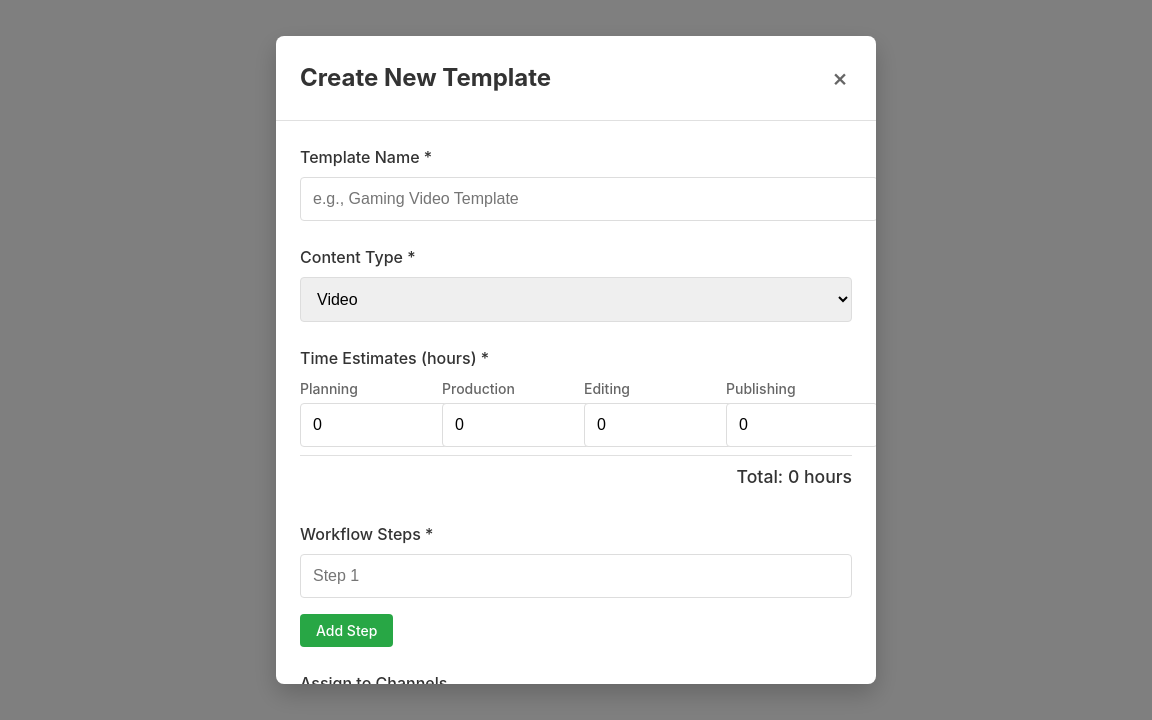
Test: TemplateEditor › adds and removes workflow steps
Expected: the number of fields with placeholder "Step 1" is 1, [300,554,852,598]
# Add a step
Click the button "Add Step" at (347,631), box [300,614,393,647]
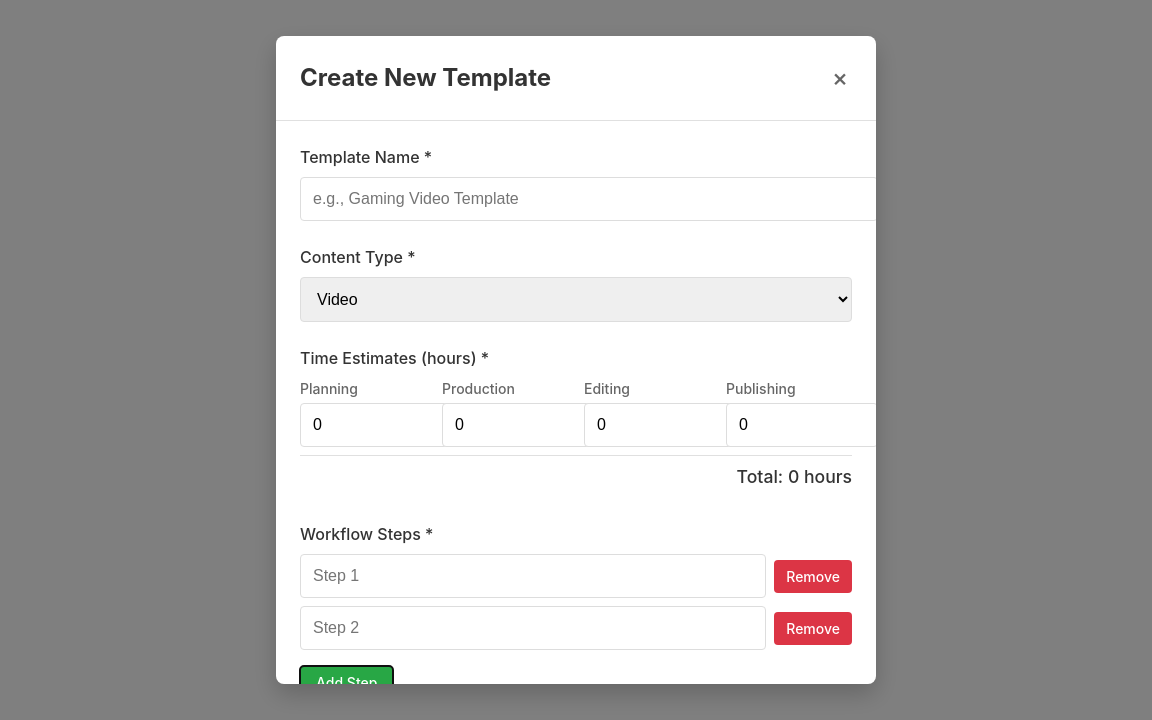
Now the number of fields with placeholder "Step 1" is 2
# Fill in steps
Type "First step" into the field with placeholder "Step 1" at (533,576), box [300,554,766,598]
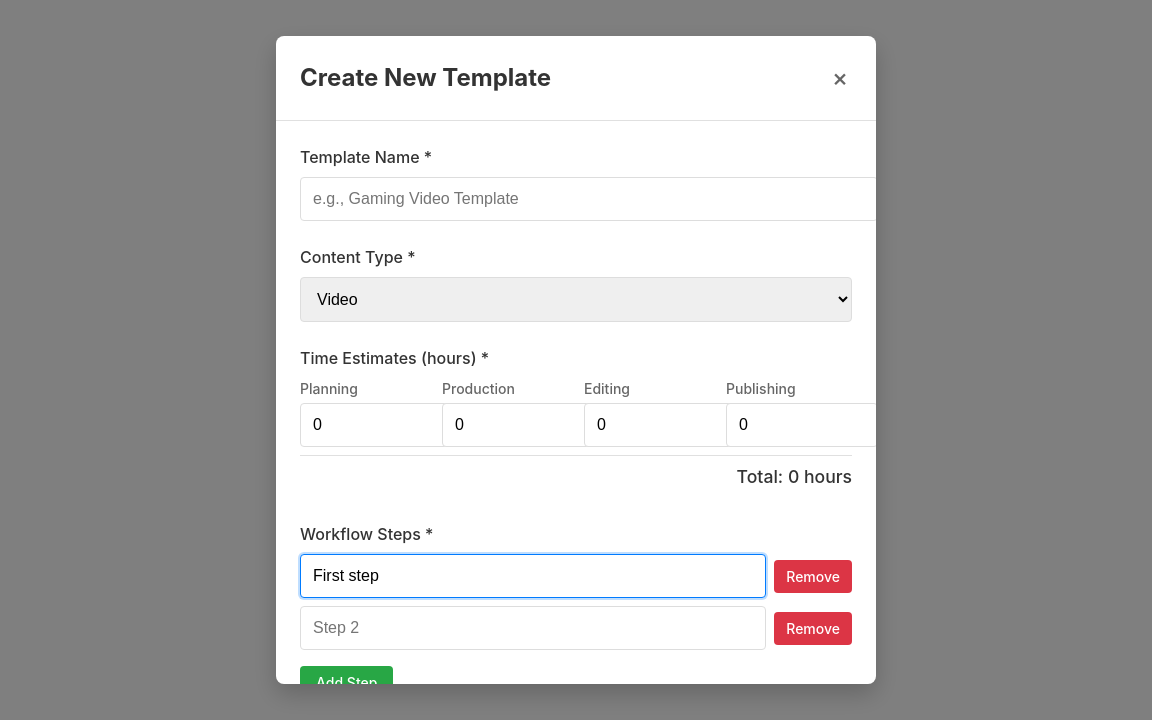
Type "Second step" into the field with placeholder "Step 2" at (533,628), box [300,606,766,650]
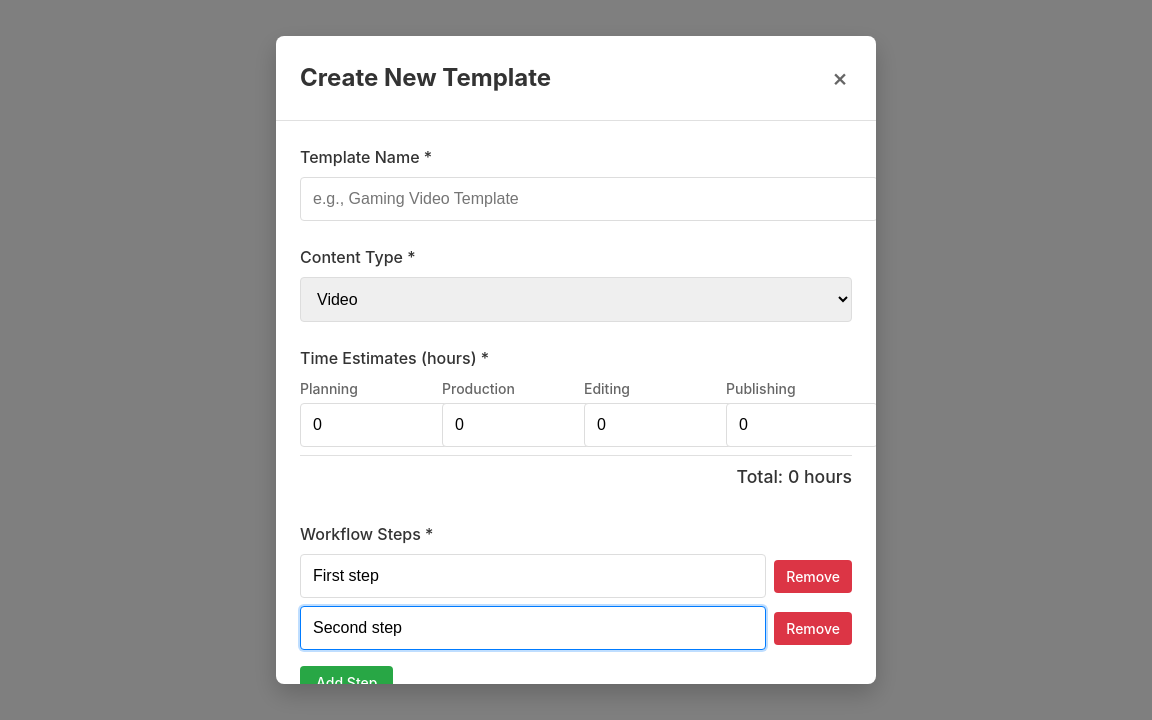
# Remove a step
Click the 1st button "Remove" at (813,576), box [774,560,852,593]
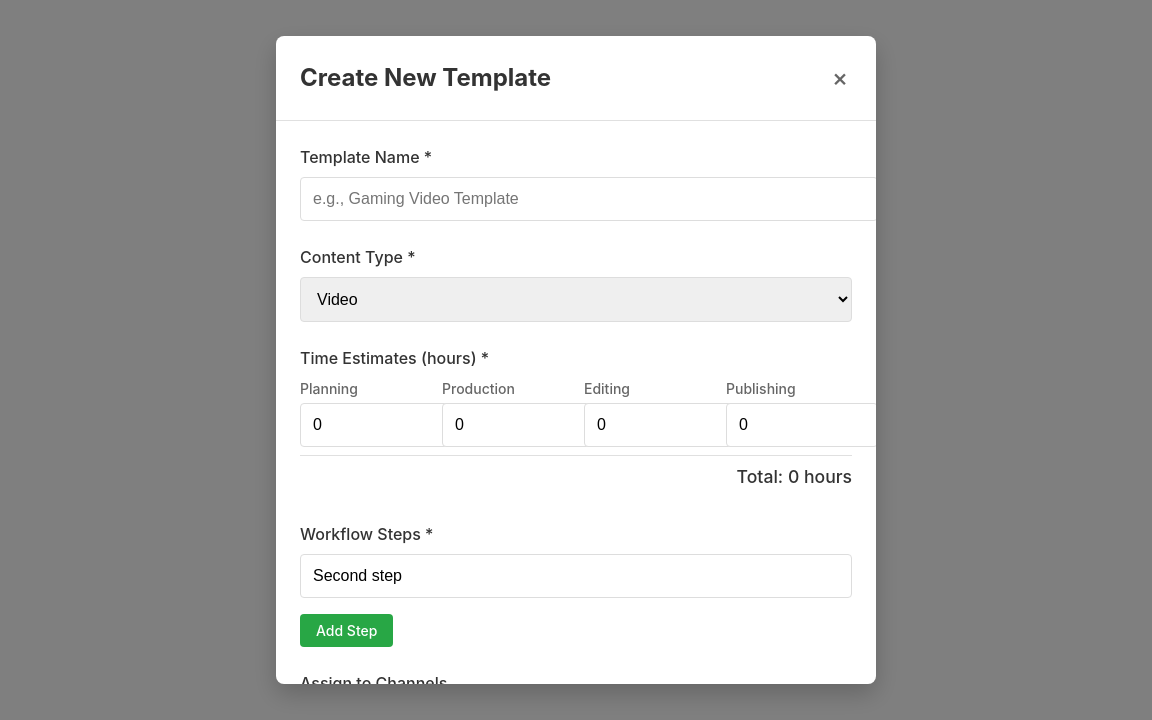
Now the number of fields with placeholder "Step 1" is 1, box [300,554,852,598]
